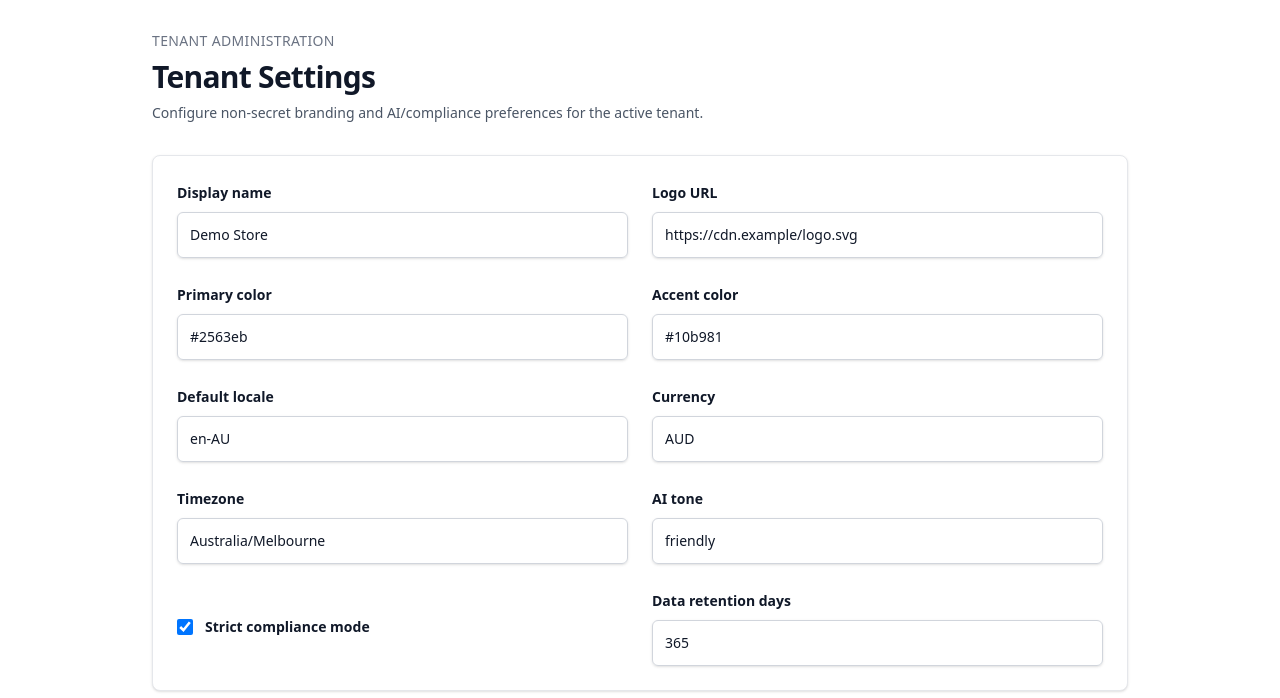
TenantSettingsPanel › surfaces save failures without clearing the edited draft
The width and height of the screenshot is (1280, 698).
Replace the text in the field labelled "AI tone" with "premium" at (878, 541), box [652, 518, 1103, 564]
(page scrolled)
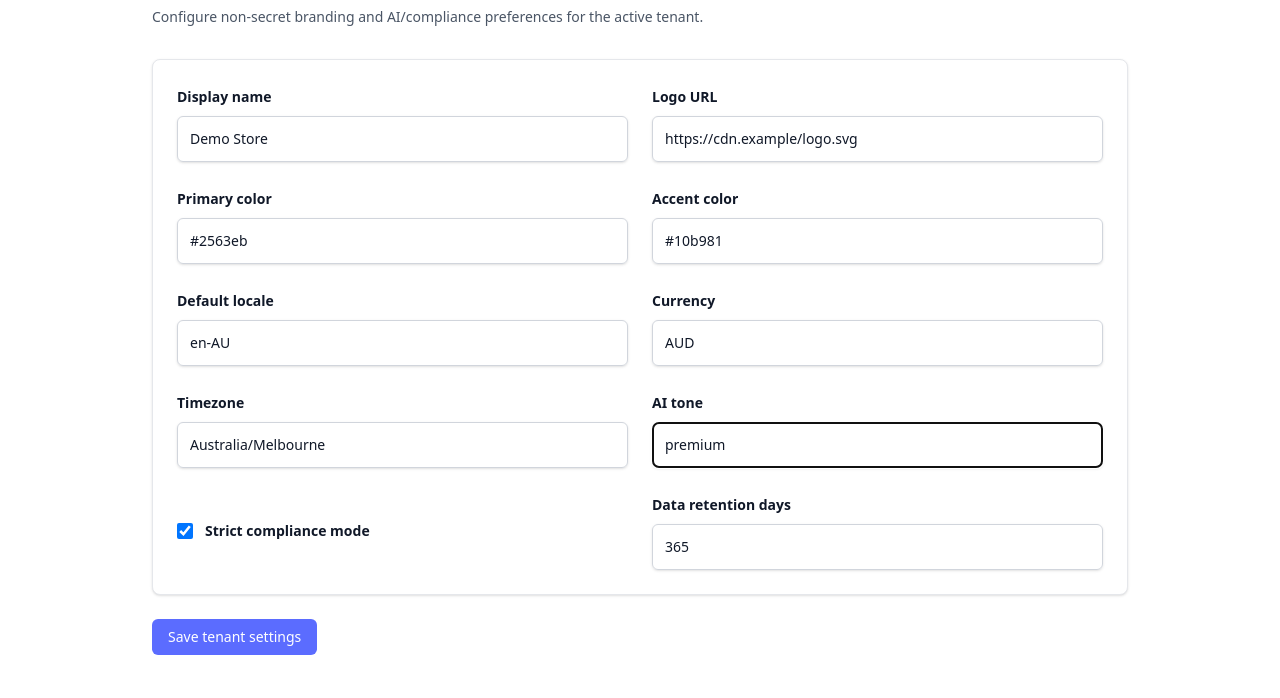
Click the button "Save tenant settings".
click(235, 637)  # box [152, 619, 317, 655]
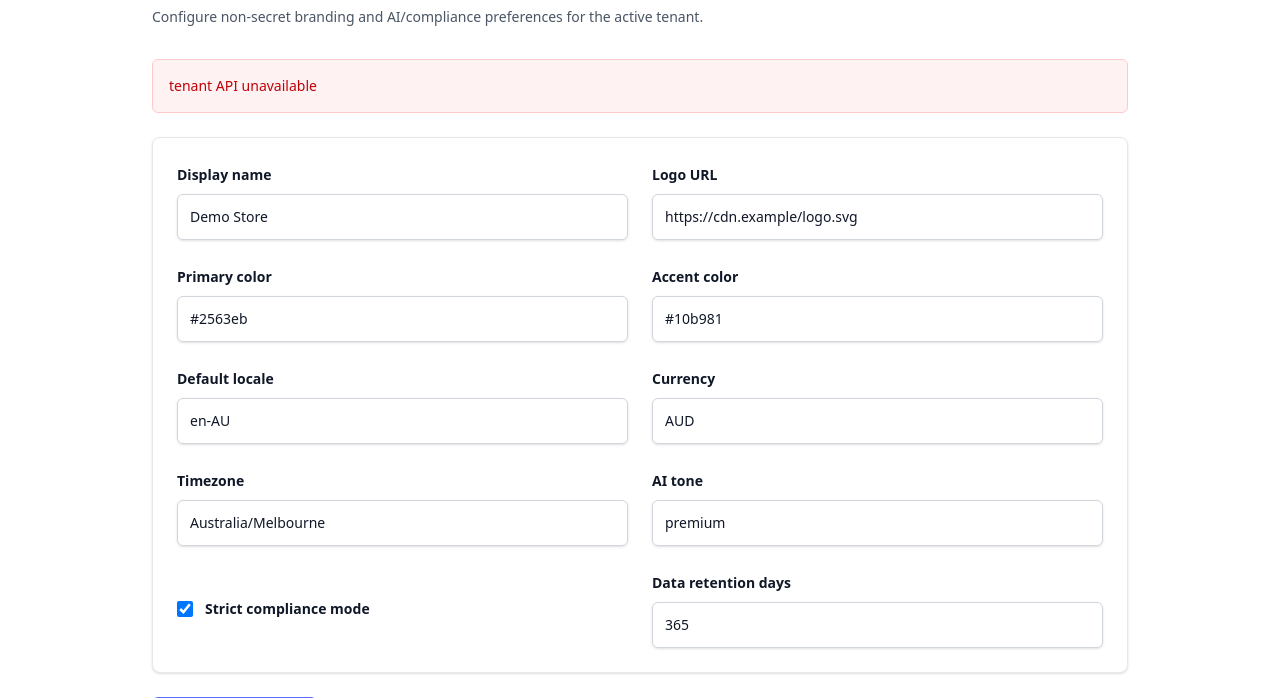
Check: the message reads "tenant API unavailable", box [169, 76, 317, 95]
